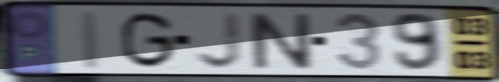3: (332, 11, 384, 72)
9: (389, 11, 447, 73)
G: (119, 10, 177, 70)
I: (79, 8, 103, 71)
J: (193, 11, 245, 71)
N: (245, 11, 317, 71)
